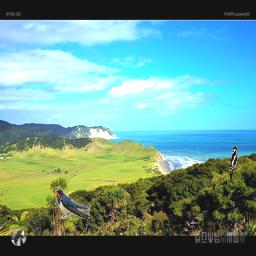Swallow: (55, 189, 90, 219)
Woodpecker: (229, 146, 239, 183)
